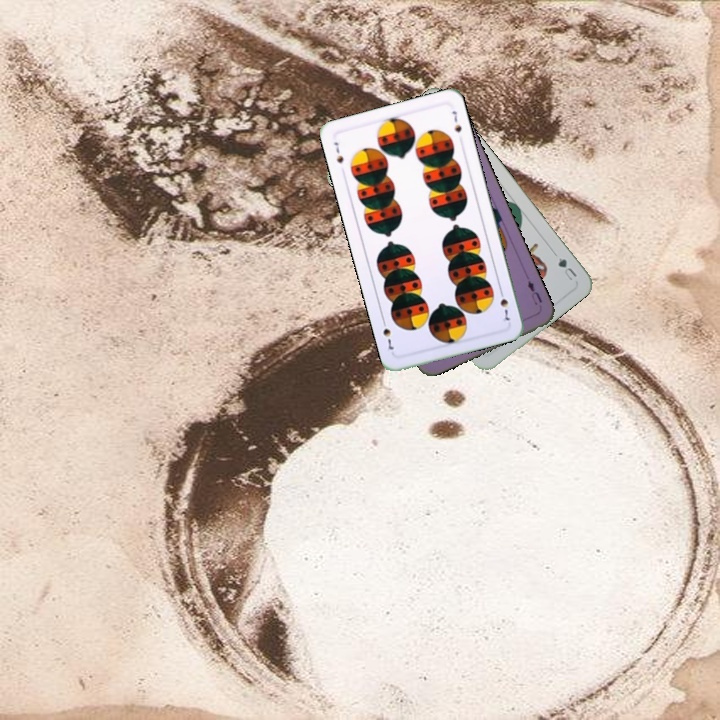EU: (523, 277, 545, 308)
GU: (554, 253, 580, 283)
S7: (496, 285, 512, 323), (330, 138, 346, 166)
